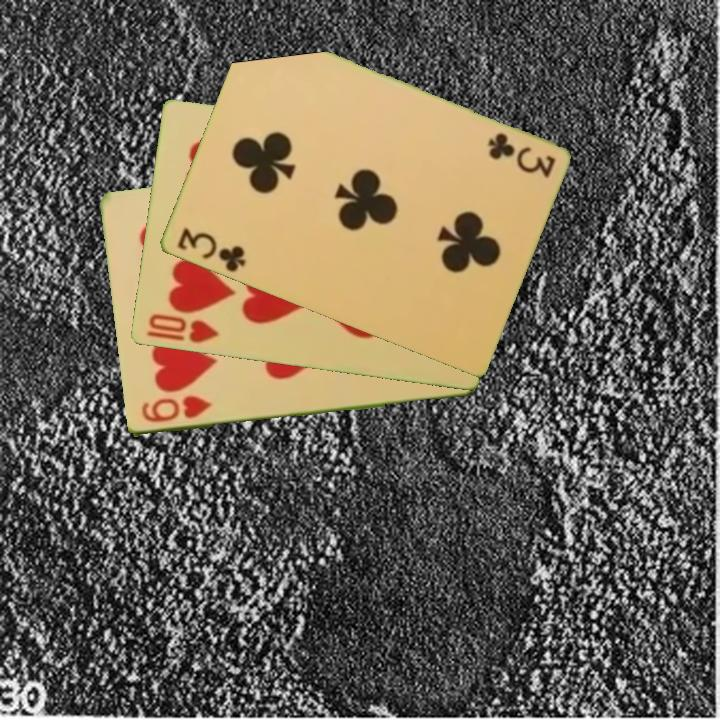10h: (142, 310, 221, 347)
3c: (173, 224, 248, 276), (483, 129, 558, 180)
6h: (137, 392, 215, 426)
